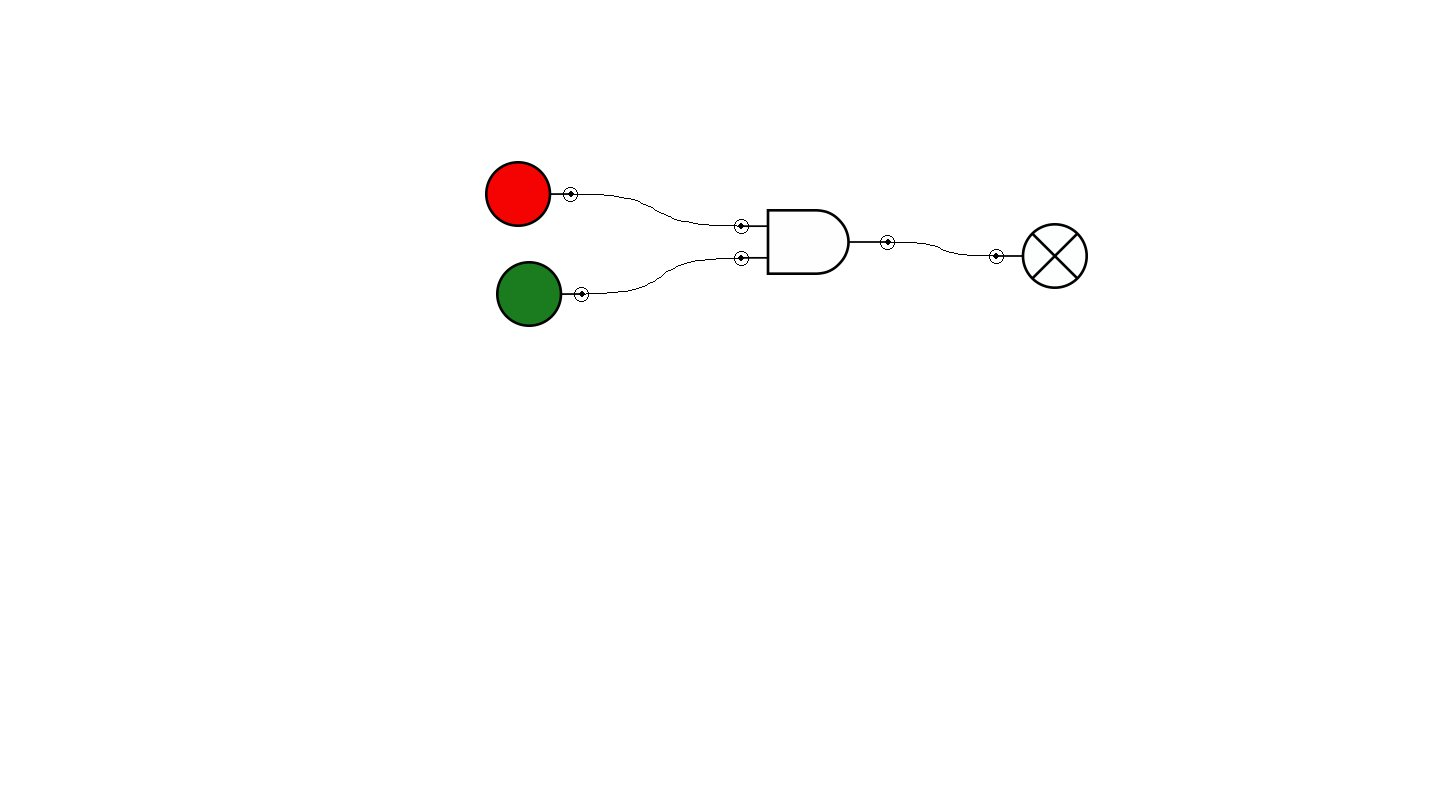and: (734, 209, 895, 275)
bulb: (989, 223, 1088, 289)
switch_False: (485, 161, 578, 227)
switch_True: (496, 261, 589, 327)
